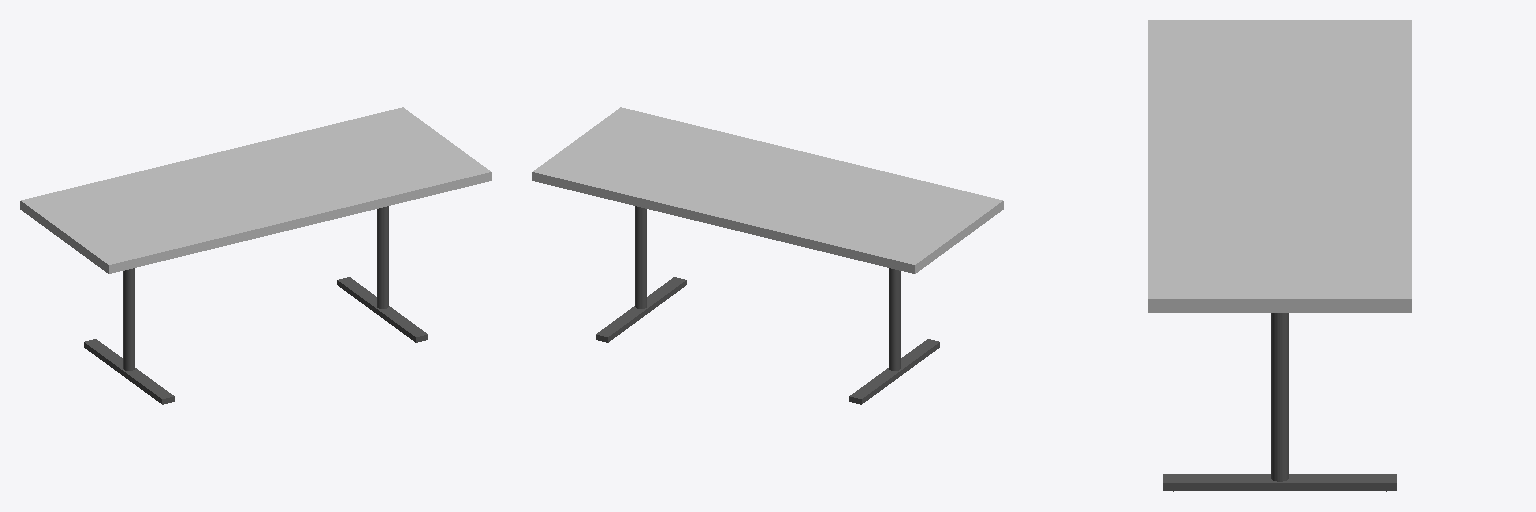
URDF robot description (conference_table):
<robot name="conference_table">
  <link name="base_link">
    <!-- Tabletop -->
    <collision>
      <origin xyz="0 0 0.714"/>
      <geometry>
        <box size="1.8515 0.741 0.042"/>
      </geometry>
    </collision>
    <visual>
      <origin xyz="0 0 0.714"/>
      <geometry>
        <box size="1.8515 0.741 0.042"/>
      </geometry>
      <material name="gray">
        <color rgba="0.8 0.8 0.8 1.0"/>
      </material>
    </visual>
    <!-- Table Legs -->
    <collision>
      <origin xyz="0.61375 0 0.364"/>
      <geometry>
        <cylinder radius="0.025" length="0.658"/>
      </geometry>
    </collision>
    <collision>
      <origin xyz="-0.61375 0 0.364"/>
      <geometry>
        <cylinder radius="0.025" length="0.658"/>
      </geometry>
    </collision>
    <visual>
      <origin xyz="0.61375 0 0.364"/>
      <geometry>
        <cylinder radius="0.025" length="0.658"/>
      </geometry>
      <material name="dark_gray">
        <color rgba="0.4 0.4 0.4 1.0"/>
      </material>
    </visual>
    <visual>
      <origin xyz="-0.61375 0 0.364"/>
      <geometry>
        <cylinder radius="0.025" length="0.658"/>
      </geometry>
      <material name="dark_gray">
        <color rgba="0.4 0.4 0.4 1.0"/>
      </material>
    </visual>
    <!-- Left table foot -->
    <collision>
      <origin xyz="0.61375 0 0.02"/>
      <geometry>
        <box size="0.06 0.66 0.025"/>
      </geometry>
    </collision>
    <collision>
      <origin xyz="0.61375 0.30 0.005"/>
      <geometry>
        <cylinder radius="0.015" length="0.01"/>
      </geometry>
    </collision>
    <collision>
      <origin xyz="0.61375 -0.30 0.005"/>
      <geometry>
        <cylinder radius="0.015" length="0.01"/>
      </geometry>
    </collision>
    <visual>
      <origin xyz="0.61375 0 0.02"/>
      <geometry>
        <box size="0.06 0.66 0.025"/>
      </geometry>
      <material name="dark_gray">
        <color rgba="0.4 0.4 0.4 1.0"/>
      </material>
    </visual>
    <visual>
      <origin xyz="0.61375 0.30 0.005"/>
      <geometry>
        <cylinder radius="0.015" length="0.01"/>
      </geometry>
      <material name="dark_gray">
        <color rgba="0.4 0.4 0.4 1.0"/>
      </material>
    </visual>
    <visual>
      <origin xyz="0.61375 -0.30 0.005"/>
      <geometry>
        <cylinder radius="0.015" length="0.01"/>
      </geometry>
      <material name="dark_gray">
        <color rgba="0.4 0.4 0.4 1.0"/>
      </material>
    </visual>
    <!-- Right table foot -->
    <collision>
      <origin xyz="-0.61375 0 0.02"/>
      <geometry>
        <box size="0.06 0.66 0.025"/>
      </geometry>
    </collision>
    <collision>
      <origin xyz="-0.61375 0.30 0.005"/>
      <geometry>
        <cylinder radius="0.015" length="0.01"/>
      </geometry>
    </collision>
    <collision>
      <origin xyz="-0.61375 -0.30 0.005"/>
      <geometry>
        <cylinder radius="0.015" length="0.01"/>
      </geometry>
    </collision>
    <visual>
      <origin xyz="-0.61375 0 0.02"/>
      <geometry>
        <box size="0.06 0.66 0.025"/>
      </geometry>
      <material name="dark_gray">
        <color rgba="0.4 0.4 0.4 1.0"/>
      </material>
    </visual>
    <visual>
      <origin xyz="-0.61375 0.30 0.005"/>
      <geometry>
        <cylinder radius="0.015" length="0.01"/>
      </geometry>
      <material name="dark_gray">
        <color rgba="0.4 0.4 0.4 1.0"/>
      </material>
    </visual>
    <visual>
      <origin xyz="-0.61375 -0.30 0.005"/>
      <geometry>
        <cylinder radius="0.015" length="0.01"/>
      </geometry>
      <material name="dark_gray">
        <color rgba="0.4 0.4 0.4 1.0"/>
      </material>
    </visual>
  </link>
</robot>

--- What the picture shows (computed from the rendered views, not written in the file) ---
3 views of the same robot in one strip: view 1: azimuth 30°, elevation 25°; view 2: azimuth 150°, elevation 25°; view 3: azimuth 270°, elevation 25° (orthographic).
Robot: conference_table — 1 links, 0 joints (none); root link base_link; default pose: every joint at zero.
Links seen in each view (by area): view 1: base_link; view 2: base_link; view 3: base_link.
Boxes of the visible links, <box> form: base_link: <box>20,107,491,404</box>; base_link: <box>532,107,1003,404</box>; base_link: <box>1148,20,1411,491</box>.
Bounding box of the posed robot: 1.85 × 0.741 × 0.735 m (x, y, z).
Geometry: primitives only (box / cylinder / sphere), no mesh files.